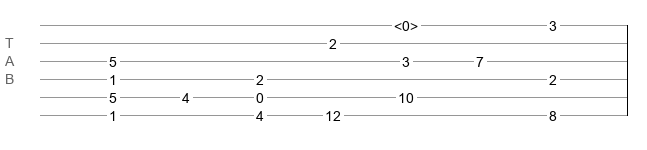0: (256, 90, 264, 100)
1: (109, 108, 117, 118), (109, 72, 117, 82)
10: (398, 90, 414, 100)
12: (325, 108, 341, 118)
2: (256, 72, 264, 82), (329, 36, 337, 46), (549, 72, 557, 82)
3: (402, 54, 410, 64), (549, 18, 557, 28)
4: (182, 90, 190, 100), (256, 108, 264, 118)
5: (109, 54, 117, 64), (109, 90, 117, 100)
7: (476, 54, 484, 64)
8: (549, 108, 557, 118)
harmonic: (394, 18, 418, 28)
